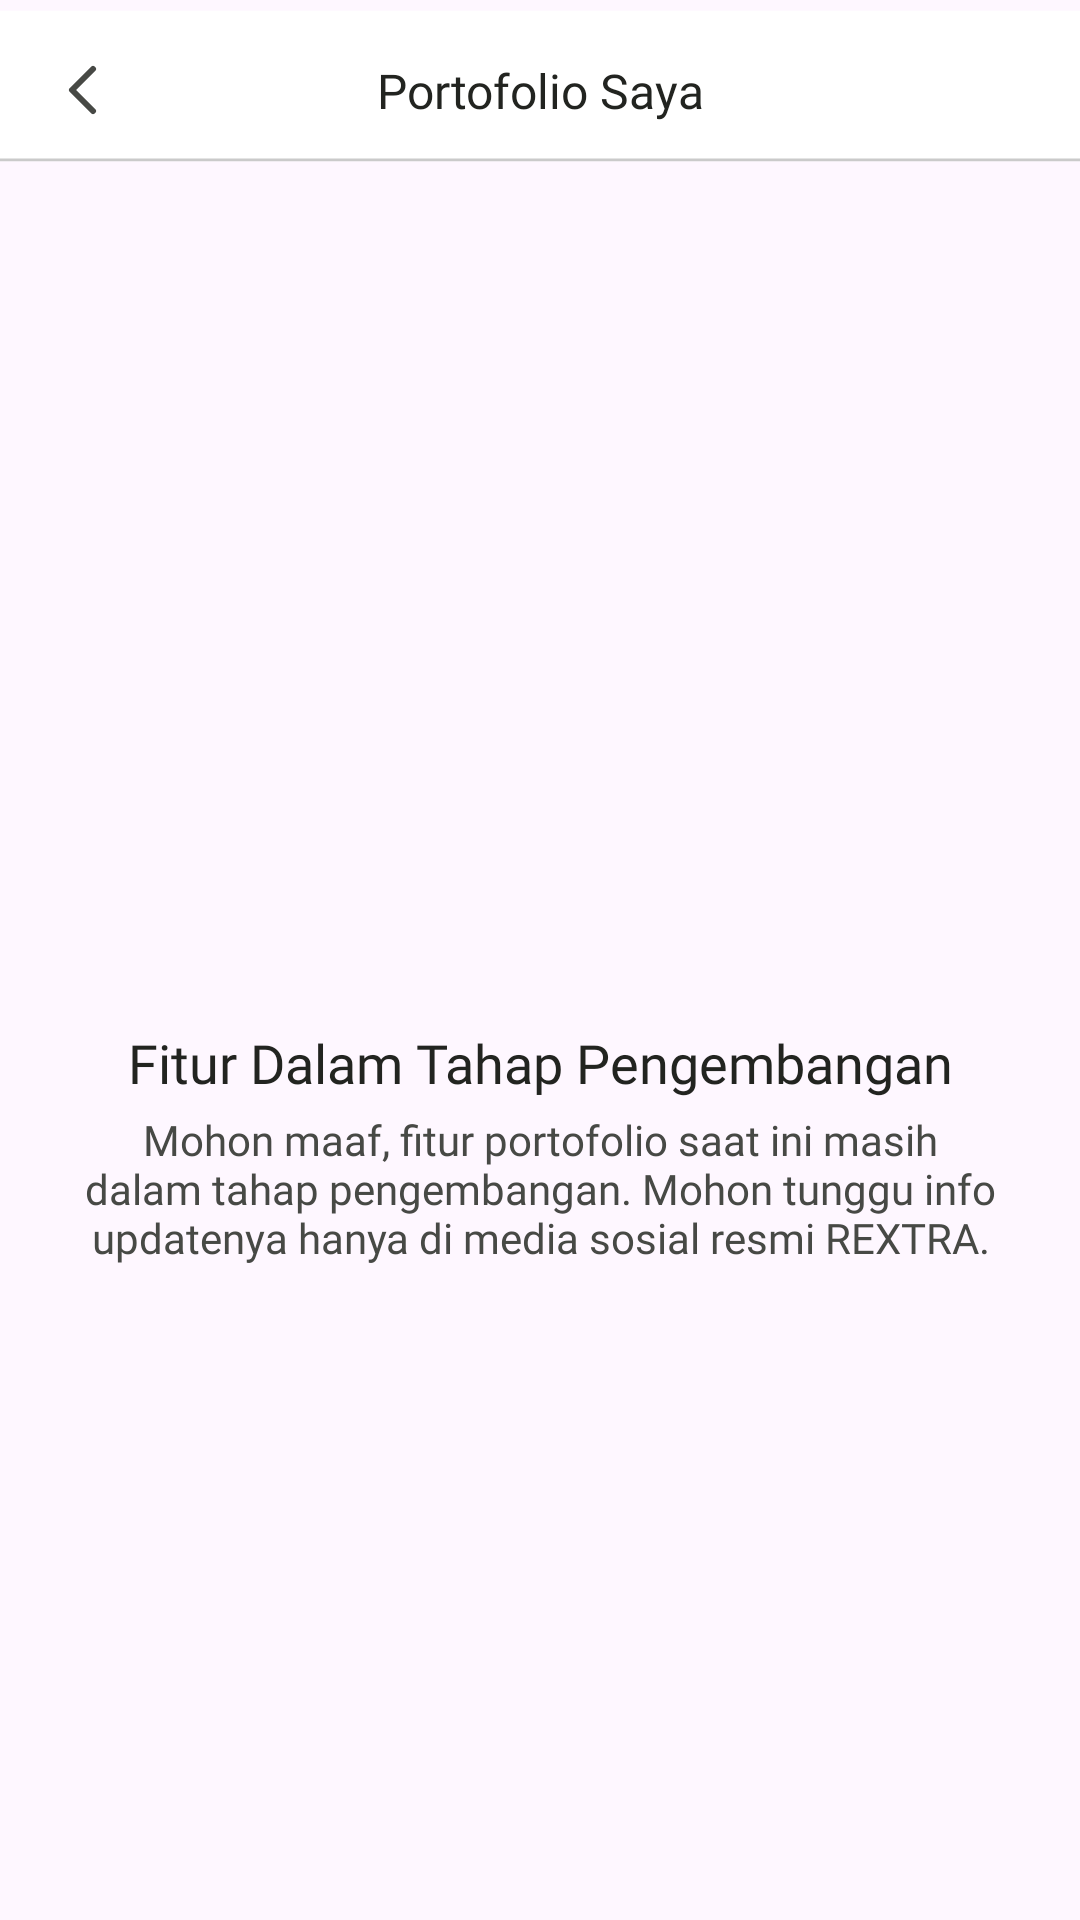

Where to tap for icons on this 1080px x 1920px app screen, as point (x, y):
left arrow: point (82, 90)
